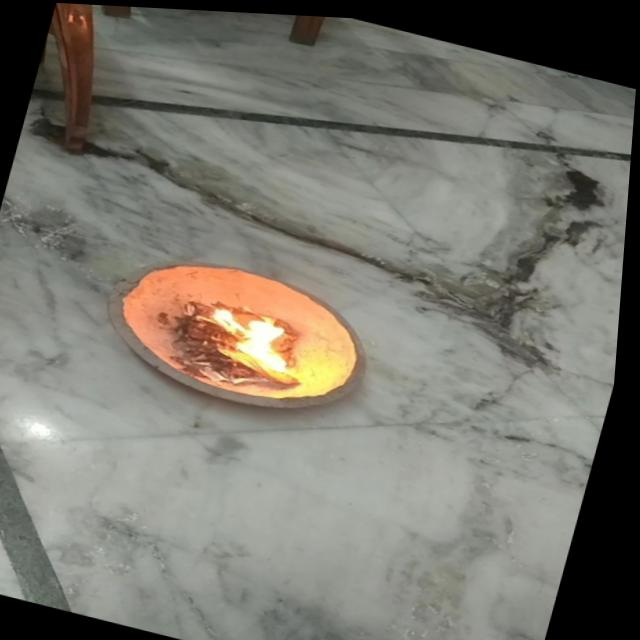fire: (194, 286, 317, 383)
